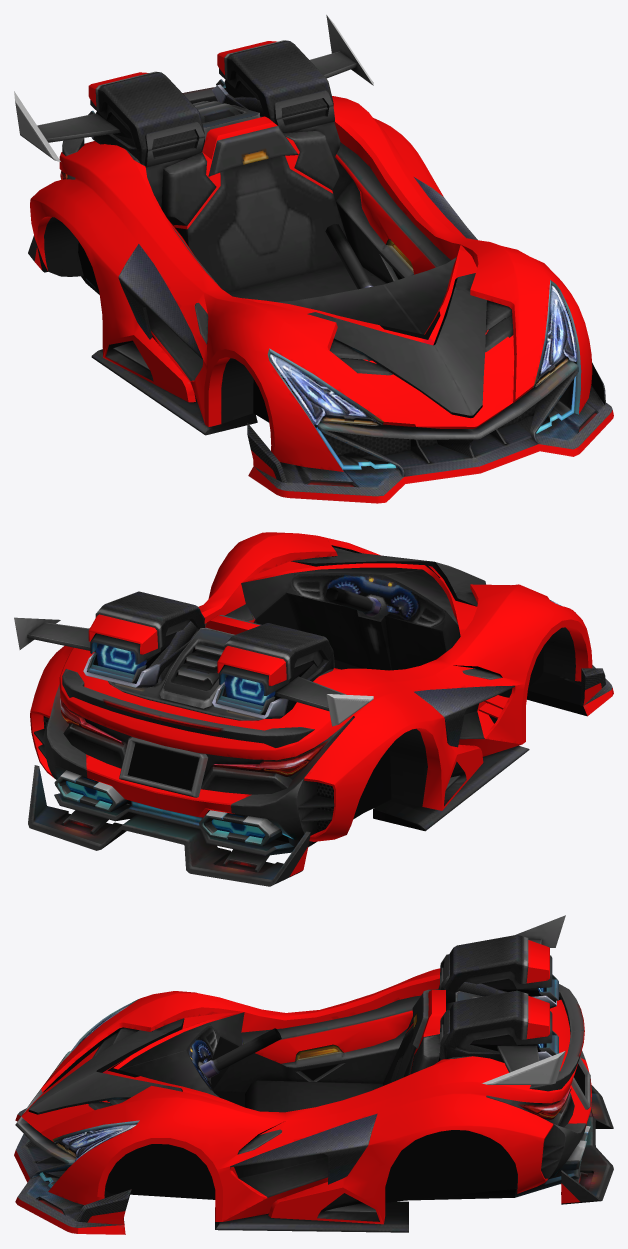
The model's file is body2.fbx.
The picture shows the model from 3 angles, top to bottom: view 1: azimuth 30°, elevation 25°; view 2: azimuth 150°, elevation 25°; view 3: azimuth 270°, elevation 25°; orthographic projection. The views are drawn at different scales.
Visible parts, largest first — view 1: r_0139.002; view 2: r_0139.002; view 3: r_0139.002.
Part boxes in pixels (x1,y1,x2,y2): r_0139.002: (14,15,613,503); r_0139.002: (14,532,613,886); r_0139.002: (14,915,613,1234).
Size of the model in its own units: 125 by 76.27 by 213.
Materials: 1 (1 with a texture image).
